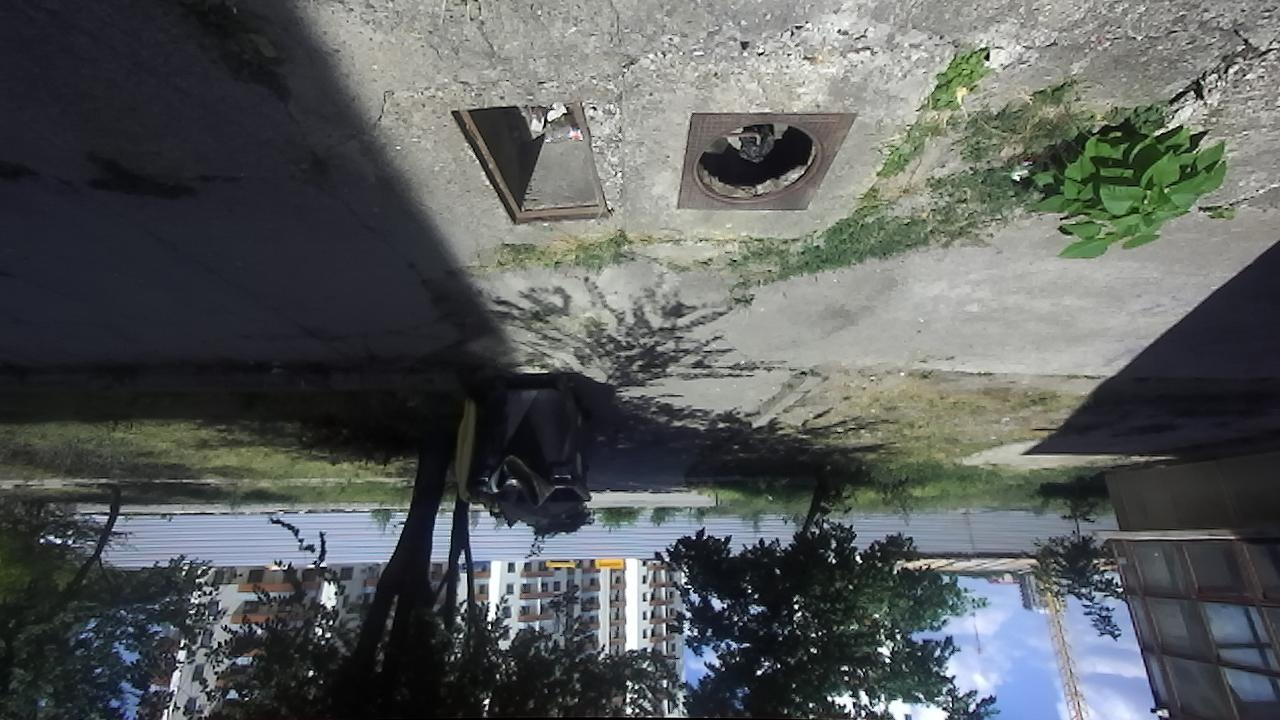drain: (449, 104, 610, 230), (689, 114, 828, 208)
